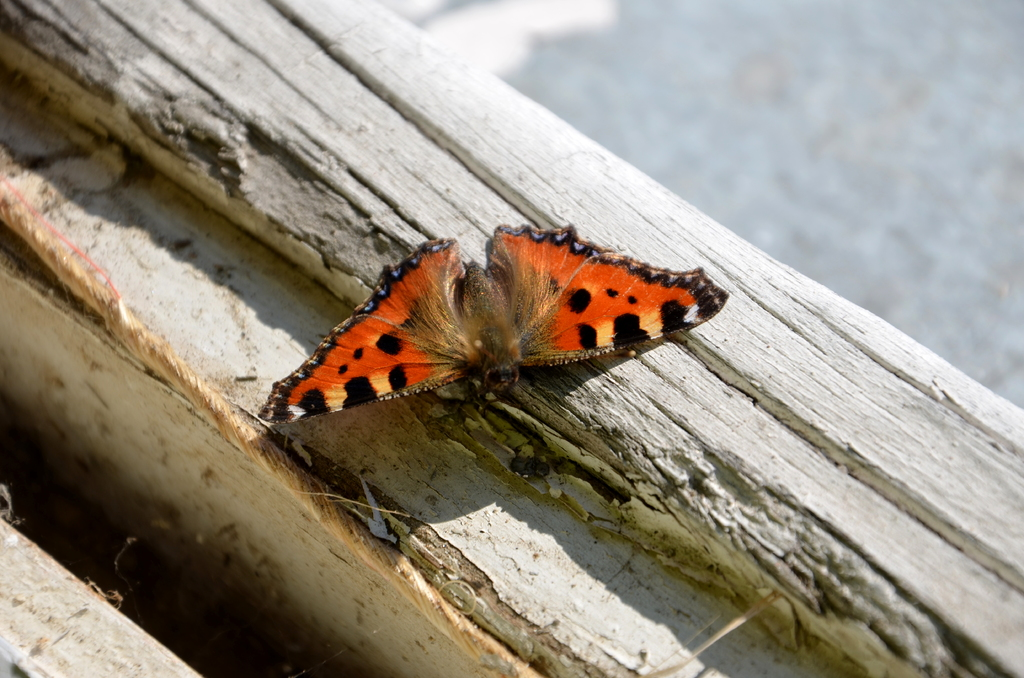Butterfly: (260, 181, 738, 470)
